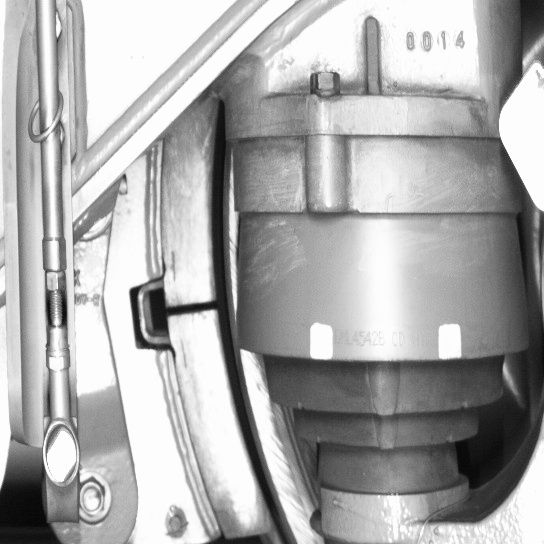KnifeSwitch: (165, 136, 299, 542)
